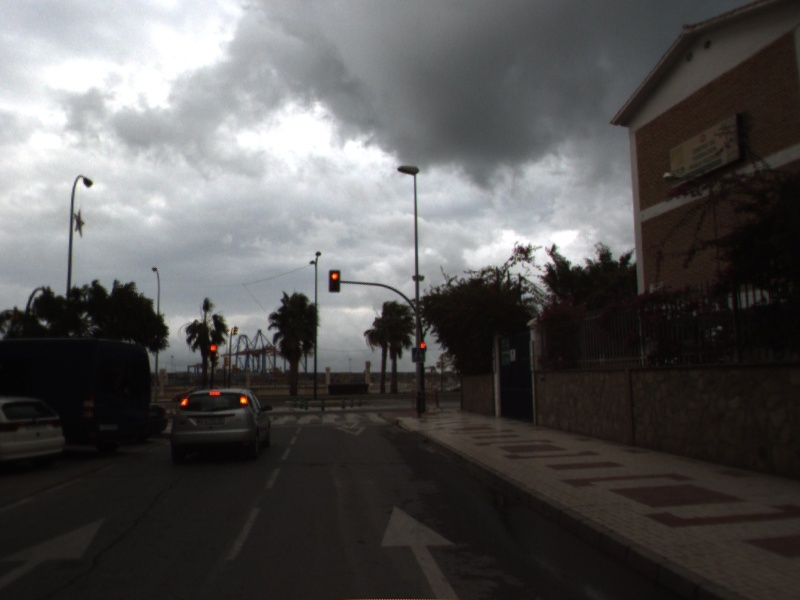STRAIGHT: (1, 513, 111, 600), (378, 502, 465, 600)
